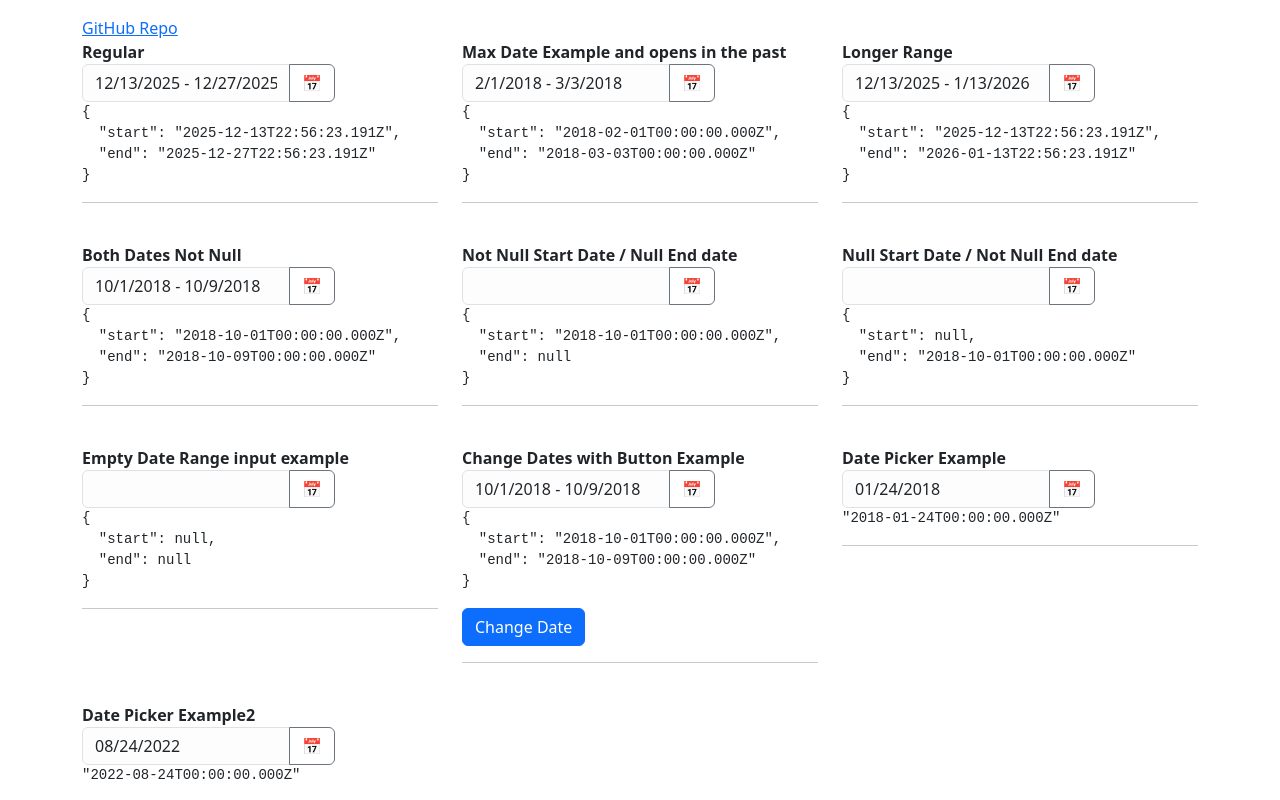
it: date-range-picker tests › should change dates by clicking a button
The image size is (1280, 800).
Expected: the field named "click to select a date range" below "Change Dates with Button Example" holds "10/1/2018 - 10/9/2018", [462,470,670,508]
Click the button "Change Date": (524, 627) [462,608,585,646]
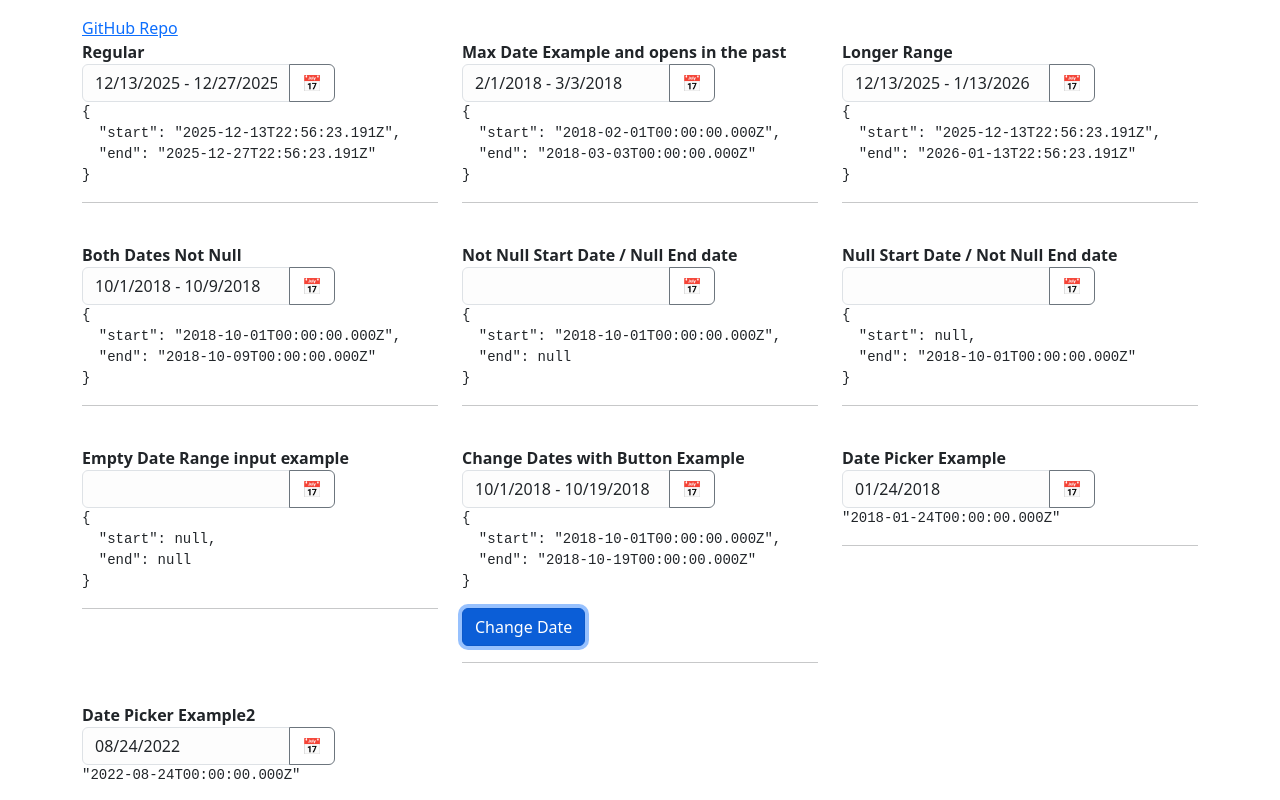
Expected: the field named "click to select a date range" below "Change Dates with Button Example" holds "10/1/2018 - 10/19/2018", [462,470,670,508]
